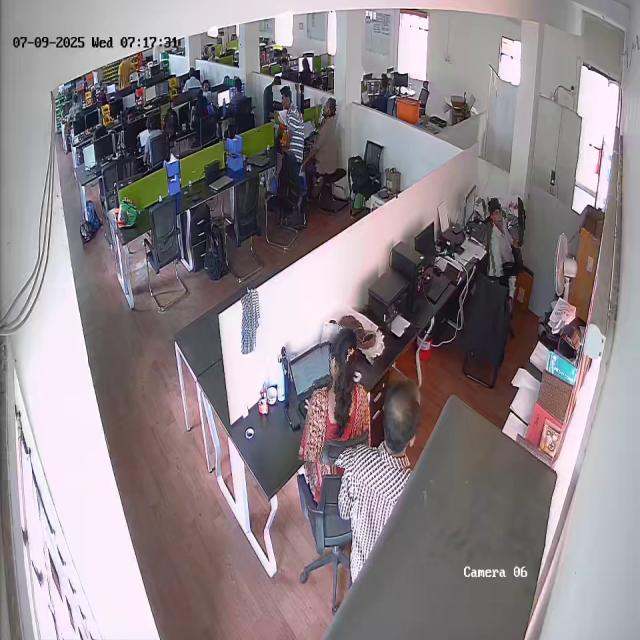person: (305, 324, 373, 468), (275, 85, 306, 227), (484, 195, 521, 277), (306, 95, 340, 177)
